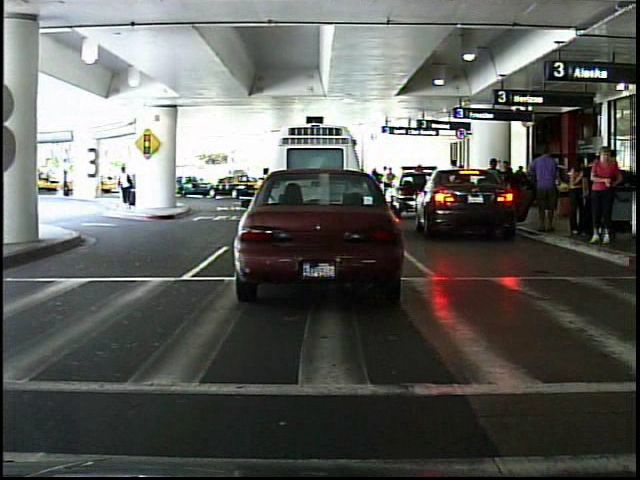person: (588, 143, 623, 250), (111, 159, 143, 211), (60, 163, 76, 202)
